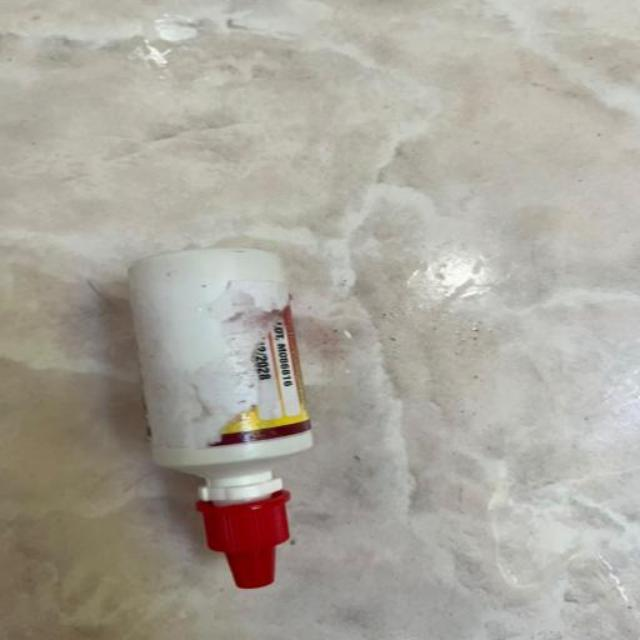HDPE: (80, 234, 408, 640)
